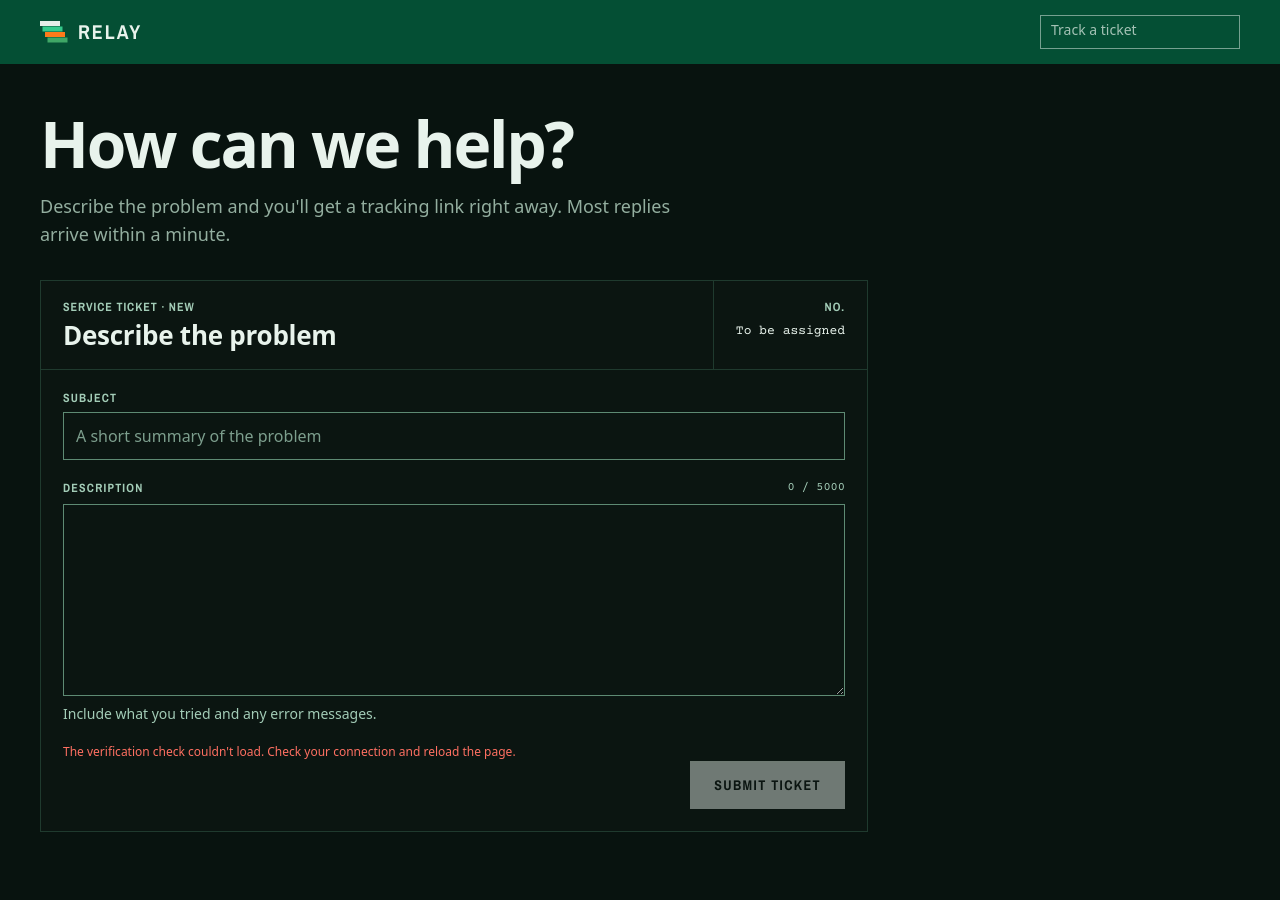
Test: routes › navigates to a ticket from the header track field
In the field named "Ticket reference": (1140,32) [1040, 15, 1240, 49], type "tick-1759993412345-a1b2c3d4"
Then press Enter
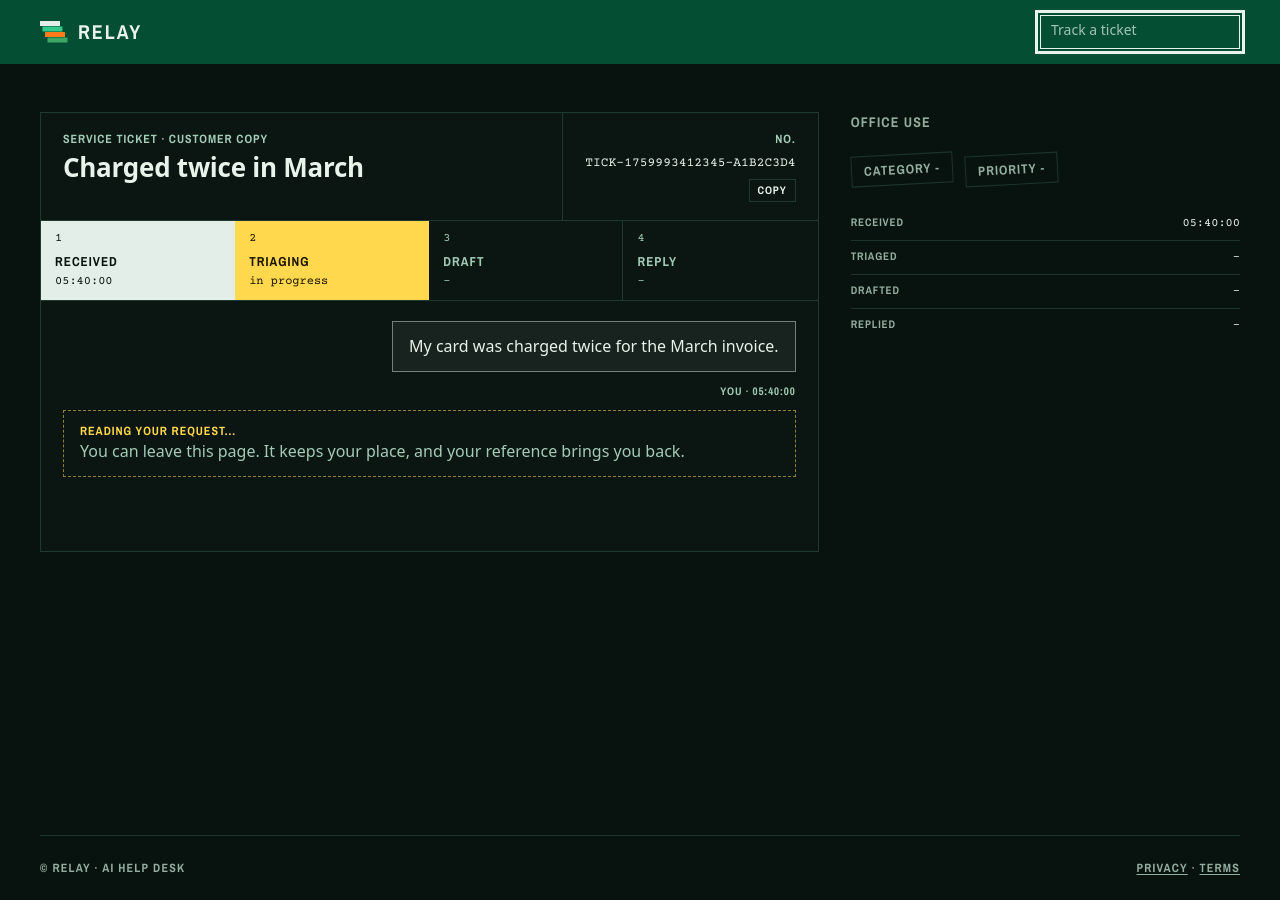
expect the text with test id "ticket-reference" reads "TICK-1759993412345-A1B2C3D4": met, box [585, 156, 796, 170]
